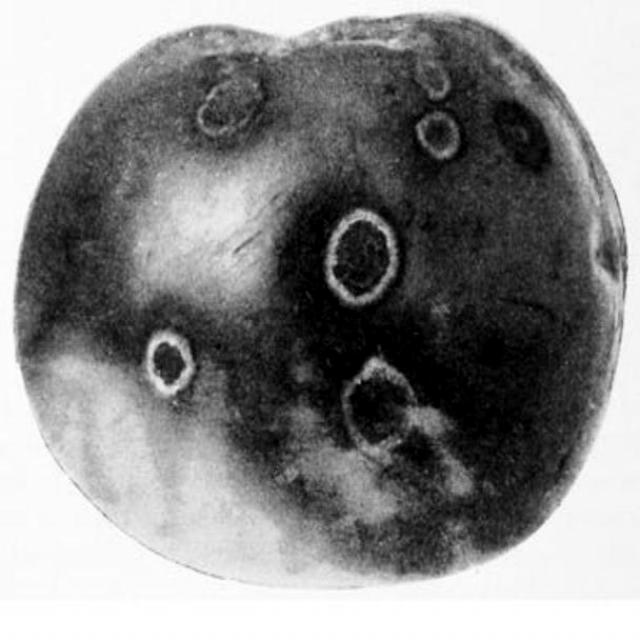SCAB: (17, 16, 616, 625)
